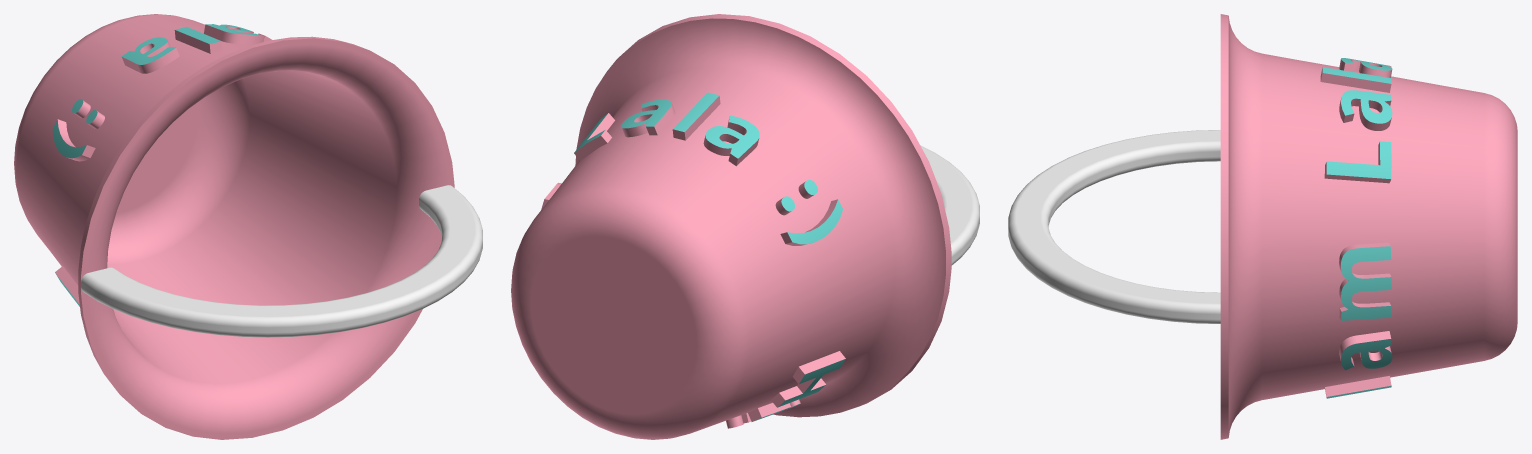
The model's file is lala_bucket.gltf.
3 views of the same model, side by side, from view 1: azimuth 30°, elevation 25°; view 2: azimuth 150°, elevation 25°; view 3: azimuth 270°, elevation 25° (orthographic).
Visible parts, largest first — view 1: lala_bucket; view 2: lala_bucket; view 3: lala_bucket.
Part boxes in pixels (x1=…): lala_bucket: x1=14, y1=14, x2=482, y2=439; lala_bucket: x1=511, y1=14, x2=979, y2=439; lala_bucket: x1=1008, y1=14, x2=1517, y2=439.
Size of the model in its own units: 0.1336 by 0.1331 by 0.1597.
